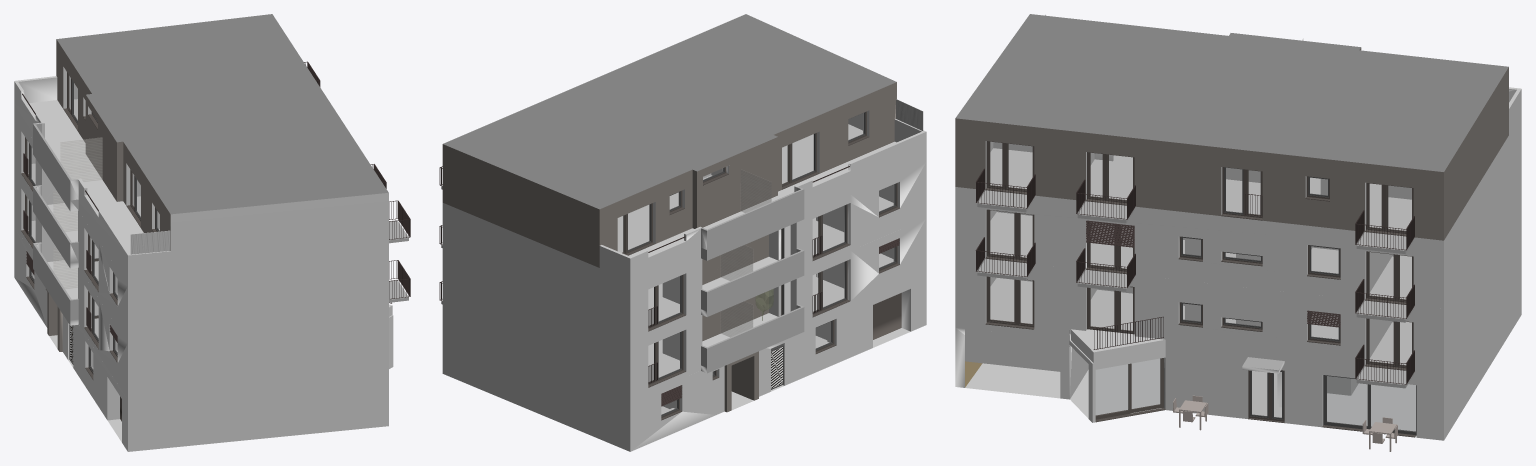
File: selska84.glb
The picture shows the model from 3 angles, left to right: view 1: azimuth 30°, elevation 25°; view 2: azimuth 150°, elevation 25°; view 3: azimuth 270°, elevation 25°; orthographic projection. The views are drawn at different scales.
Visible parts, largest first — view 1: selska84_architecture; view 2: selska84_architecture; view 3: selska84_architecture.
Part boxes in pixels (x1,y1,x2,y2): selska84_architecture: [14, 14, 410, 451]; selska84_architecture: [439, 14, 926, 451]; selska84_architecture: [955, 14, 1521, 451].
Size of the model in its own units: 18.15 by 11.76 by 22.48.
18 materials, 3 textured.
